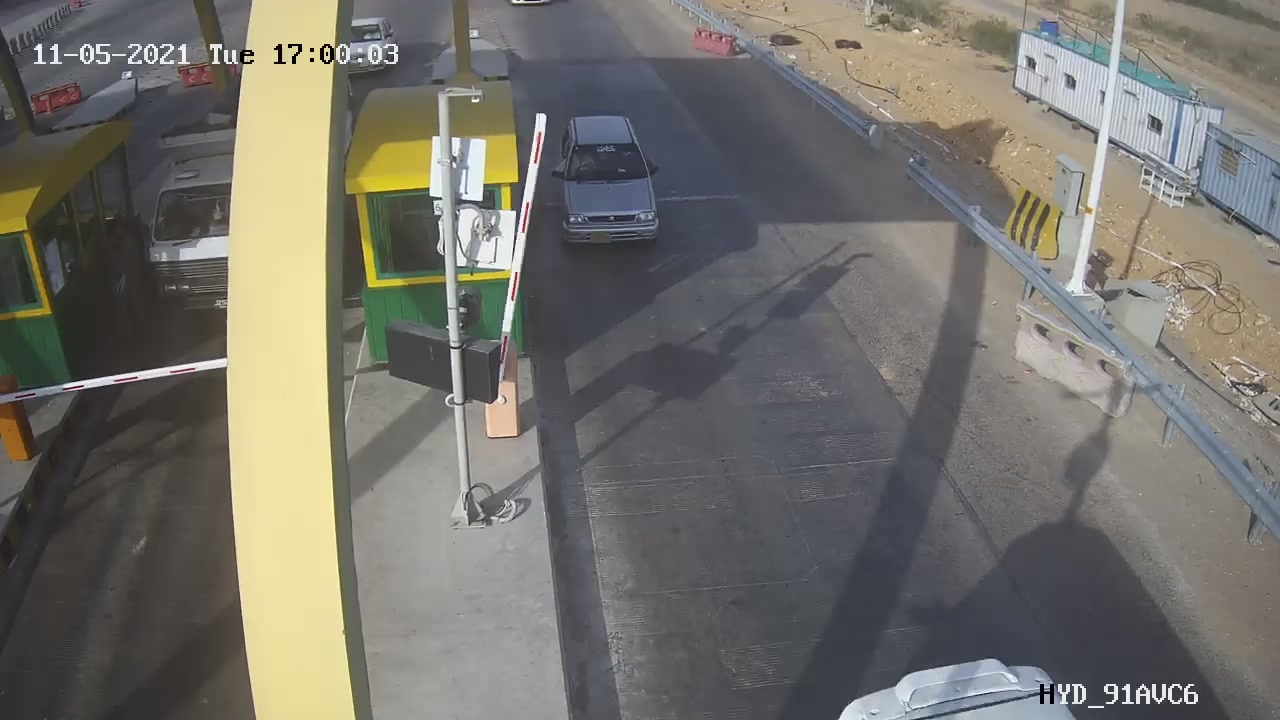F1: (538, 99, 677, 264)
